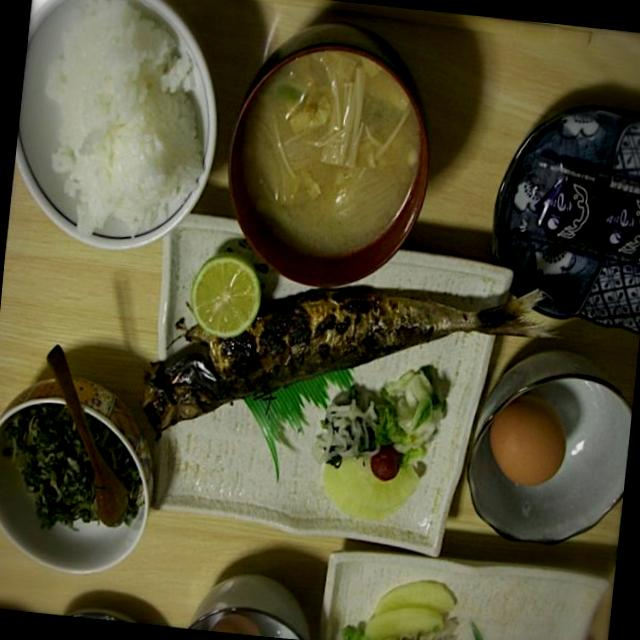Egg: (472, 390, 580, 504)
Rice: (6, 0, 226, 267)
